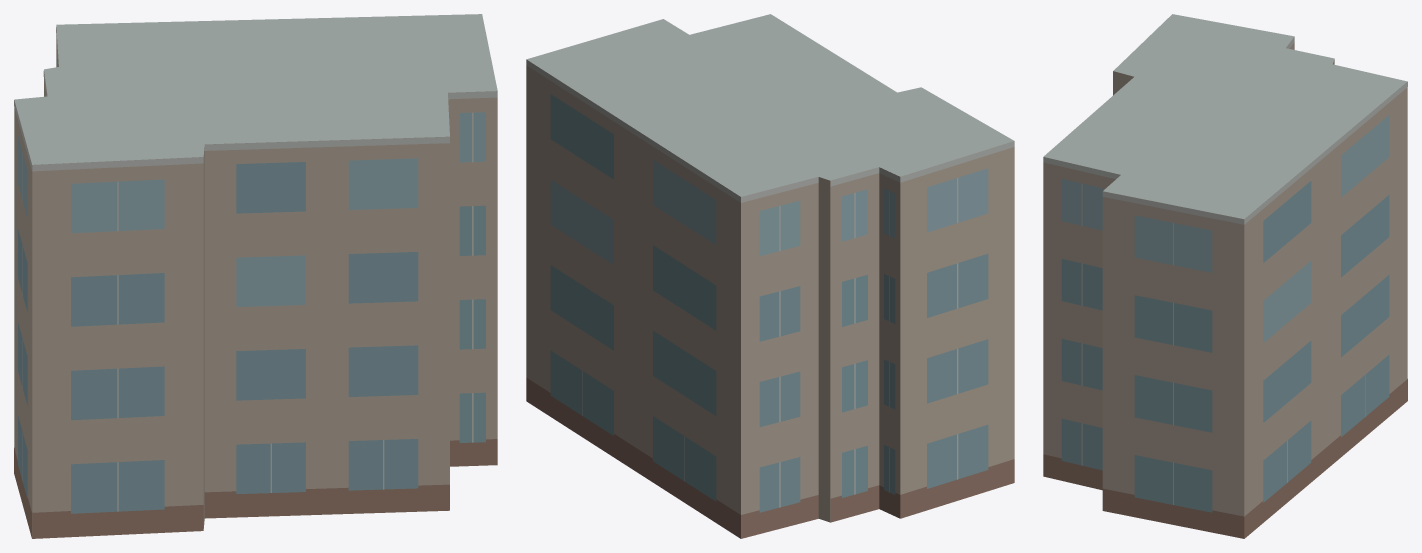
Rendered from survey-upis-32690602.glb.
The picture shows the model from 3 angles, left to right: view 1: azimuth 30°, elevation 25°; view 2: azimuth 150°, elevation 25°; view 3: azimuth 270°, elevation 25°; orthographic projection. The views are drawn at different scales.
Visible parts, largest first — view 1: survey-upis-32690602.tmp; view 2: survey-upis-32690602.tmp; view 3: survey-upis-32690602.tmp.
Part boxes in pixels (x1,y1,x2,y2): survey-upis-32690602.tmp: [14, 14, 497, 538]; survey-upis-32690602.tmp: [526, 14, 1014, 538]; survey-upis-32690602.tmp: [1043, 14, 1407, 538].
Bounding box in the file's own units: 19.35 × 14.05 × 14.53.
